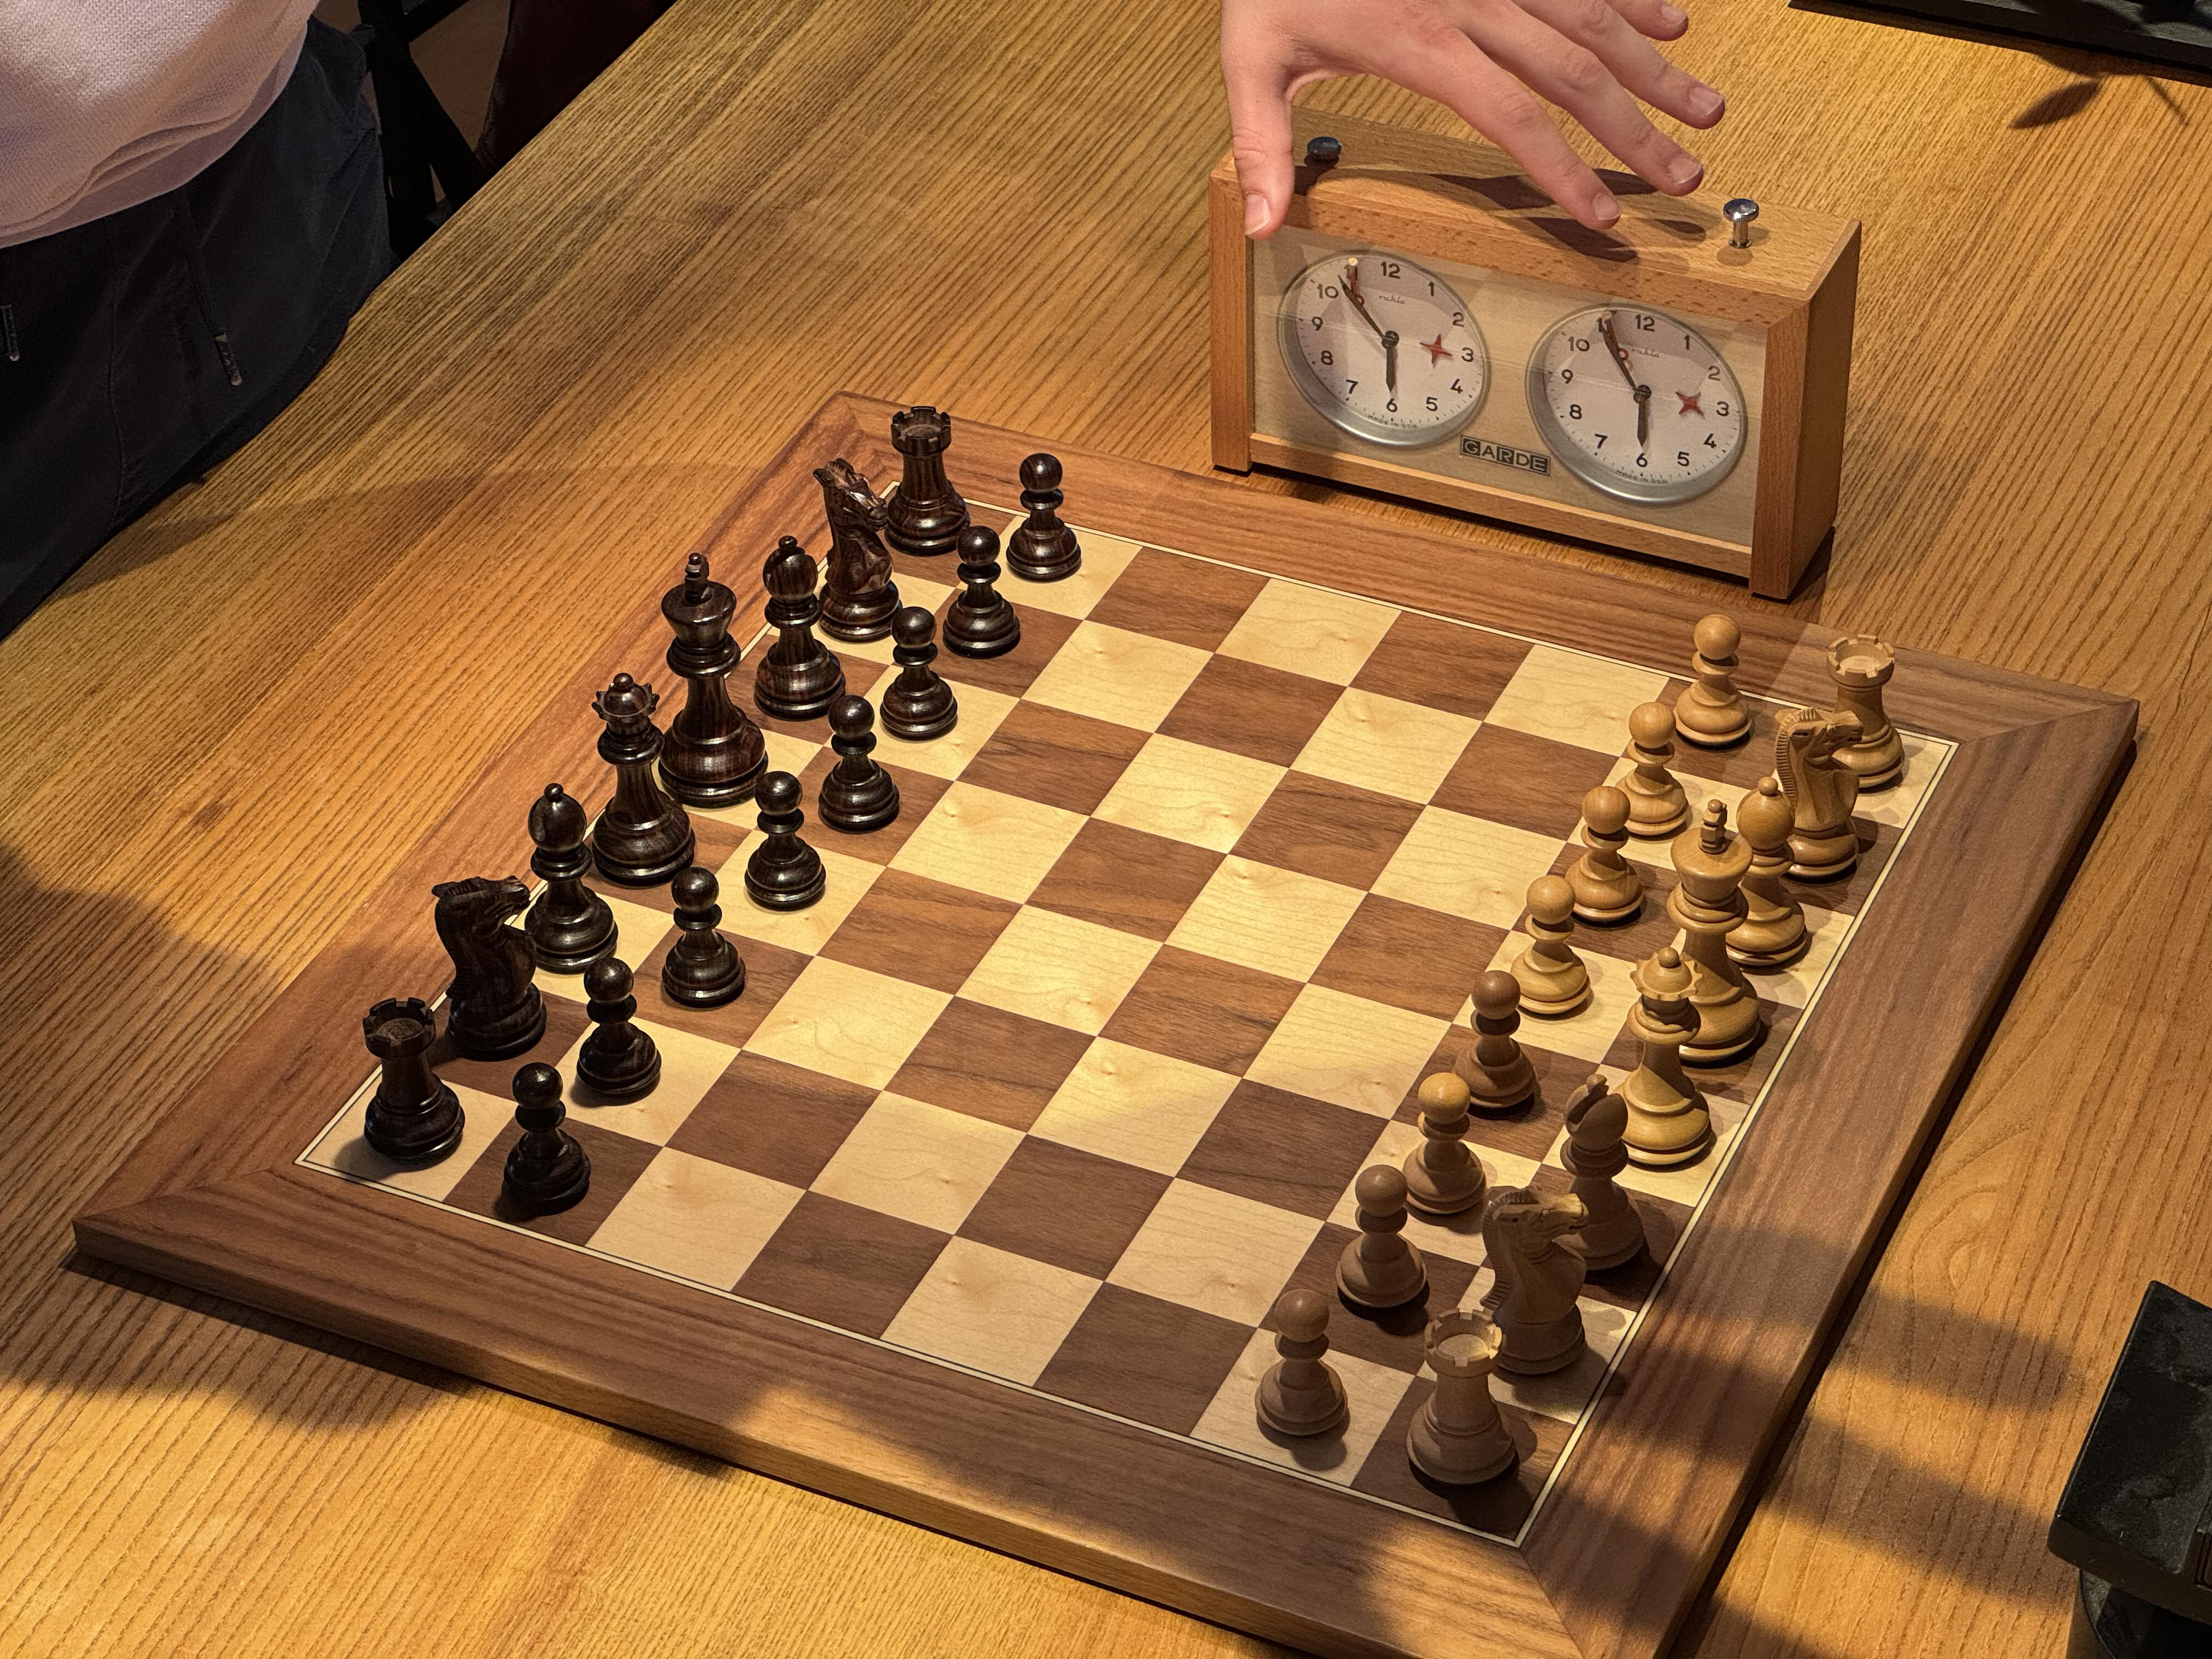Black Bishop: (515, 781, 620, 981), (748, 533, 849, 727)
Black King: (648, 550, 771, 815)
Black Knight: (420, 870, 550, 1064), (808, 455, 905, 647)
Black Pawn: (498, 1059, 593, 1215), (572, 955, 664, 1109), (654, 867, 745, 1013), (740, 772, 827, 919), (811, 692, 898, 839), (939, 523, 1025, 664), (875, 604, 960, 747), (1002, 449, 1083, 586)
Black Queen: (586, 668, 699, 895)
Black Rook: (355, 992, 467, 1174), (878, 403, 973, 561)
White Bishop: (1549, 1068, 1655, 1282), (1716, 776, 1809, 978)
White King: (1655, 794, 1764, 1074)
White Knight: (1465, 1166, 1591, 1387), (1765, 685, 1863, 887)
White Pawn: (1248, 1286, 1354, 1449), (1331, 1159, 1431, 1323), (1444, 967, 1545, 1123), (1387, 1071, 1487, 1227), (1503, 872, 1597, 1026), (1559, 781, 1648, 935), (1670, 610, 1754, 757), (1608, 700, 1693, 846)
White Queen: (1600, 944, 1719, 1176)
White Rook: (1399, 1302, 1522, 1499), (1815, 628, 1908, 798)
